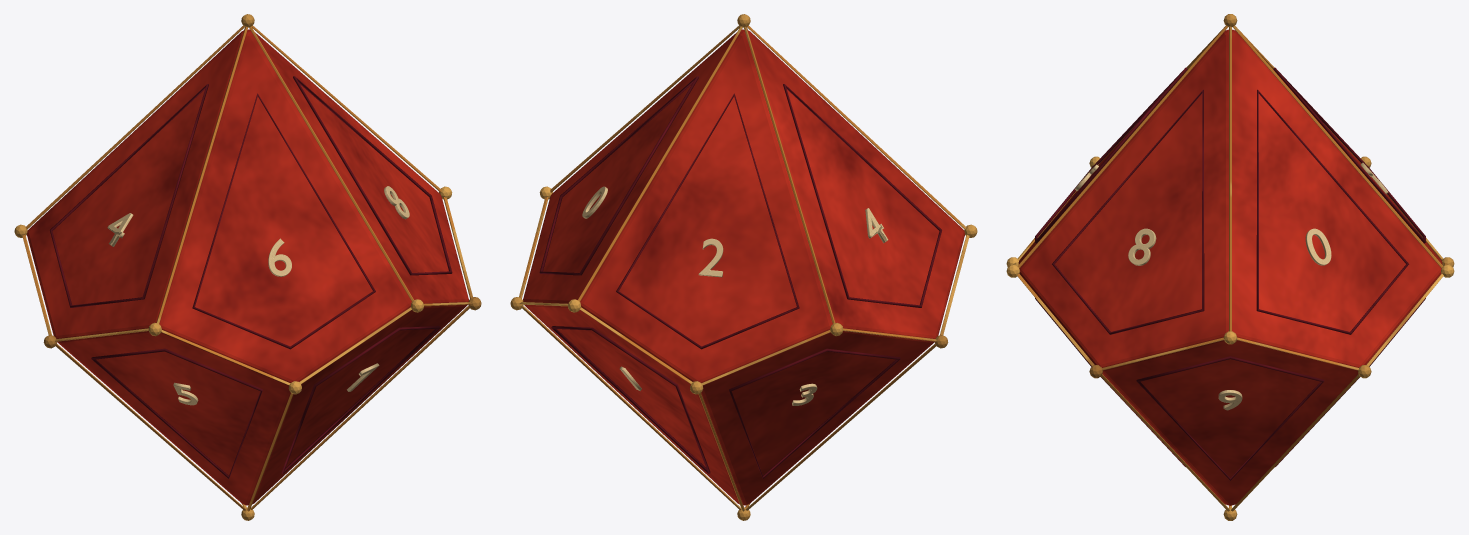
Rendered from D10_个位骰_0-9_朱砂鎏金_baked.glb.
The picture shows the model from 3 angles, left to right: view 1: azimuth 30°, elevation 25°; view 2: azimuth 150°, elevation 25°; view 3: azimuth 270°, elevation 25°; orthographic projection.
Visible parts, largest first — view 1: D10_0_9_Body_10_Faces, D10_0_9_Aged_Bronze_Edges, D10_0_9_Occult_Face_Borders, D10_0_9_Vertex_Studs; view 2: D10_0_9_Body_10_Faces, D10_0_9_Aged_Bronze_Edges, D10_0_9_Occult_Face_Borders, D10_0_9_Vertex_Studs; view 3: D10_0_9_Body_10_Faces, D10_0_9_Occult_Face_Borders, D10_0_9_Aged_Bronze_Edges, D10_0_9_Vertex_Studs, D10_0_9_Face_09_8, D10_0_9_Face_01_0.
Boxes of the visible parts, x1,y1,x2,y2 form: D10_0_9_Body_10_Faces: (27, 29, 468, 505); D10_0_9_Aged_Bronze_Edges: (22, 25, 472, 511); D10_0_9_Occult_Face_Borders: (50, 76, 452, 478); D10_0_9_Vertex_Studs: (14, 14, 481, 520); D10_0_9_Body_10_Faces: (523, 29, 964, 505); D10_0_9_Aged_Bronze_Edges: (519, 25, 969, 511); D10_0_9_Occult_Face_Borders: (539, 76, 941, 478); D10_0_9_Vertex_Studs: (510, 14, 977, 520); D10_0_9_Body_10_Faces: (1018, 29, 1442, 505); D10_0_9_Occult_Face_Borders: (1035, 67, 1425, 480); D10_0_9_Aged_Bronze_Edges: (1013, 25, 1447, 511); D10_0_9_Vertex_Studs: (1006, 14, 1454, 520); D10_0_9_Face_09_8: (1128, 228, 1156, 265); D10_0_9_Face_01_0: (1305, 228, 1331, 265).
Size of the model in its own units: 3.76 by 4.47 by 3.58.
14 materials, 14 textured.
